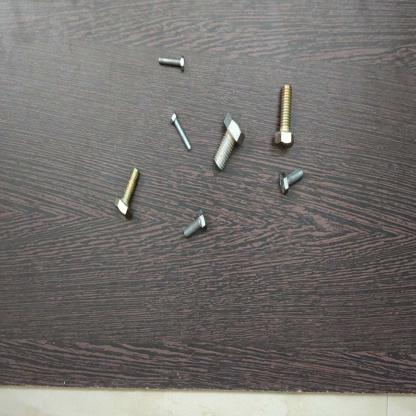Bolts: (212, 110, 247, 177), (272, 75, 298, 153), (113, 164, 143, 219), (274, 161, 308, 201), (167, 110, 195, 154), (180, 204, 210, 245), (155, 53, 190, 74)
